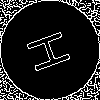H: (25, 25, 81, 75)
